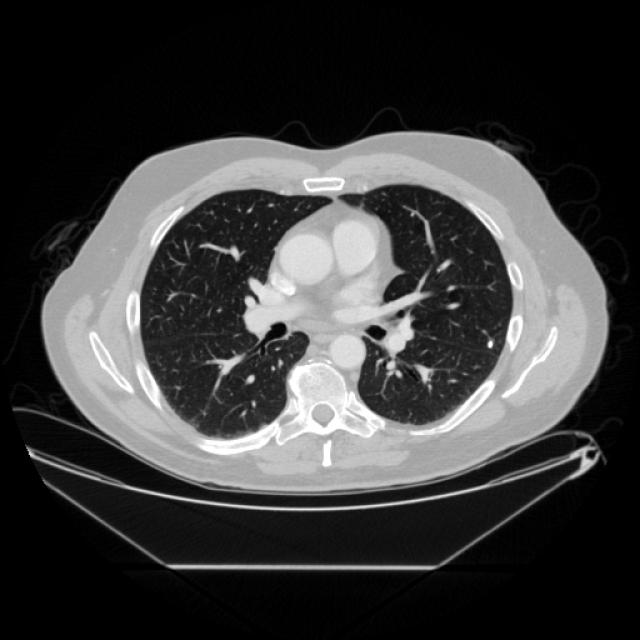nodule: (479, 332, 499, 352)
